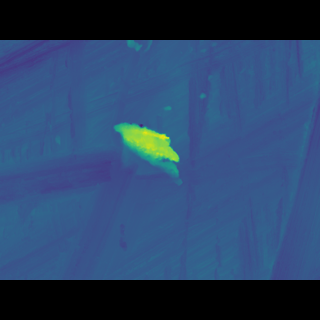Loch: (109, 128, 187, 182)
